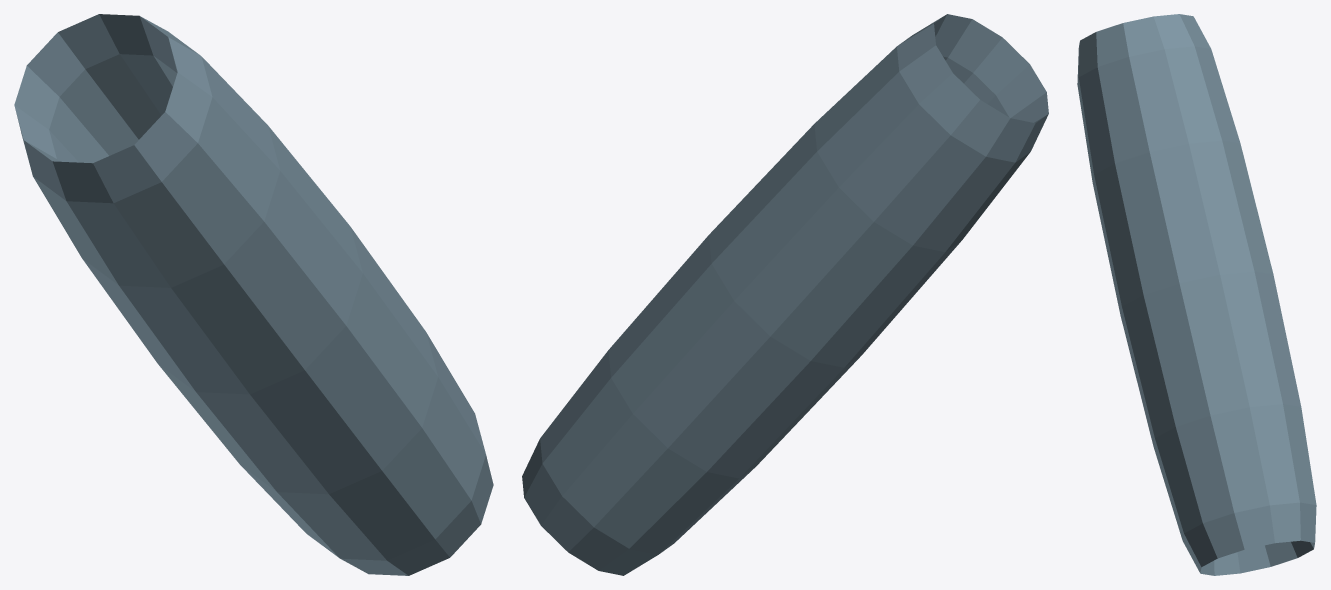
Rendered from astronaut_spawn_group1934812181_lev4.glb.
The picture shows the model from 3 angles, left to right: view 1: azimuth 30°, elevation 25°; view 2: azimuth 150°, elevation 25°; view 3: azimuth 270°, elevation 25°; orthographic projection. The views are drawn at different scales.
Visible parts, largest first — view 1: astronaut_spawn_group1934812181_lev4; view 2: astronaut_spawn_group1934812181_lev4; view 3: astronaut_spawn_group1934812181_lev4.
Part boxes in pixels (box(x1,y1,x2,y2)): astronaut_spawn_group1934812181_lev4: box(14, 14, 493, 575); astronaut_spawn_group1934812181_lev4: box(522, 14, 1048, 575); astronaut_spawn_group1934812181_lev4: box(1077, 14, 1316, 575).
Bounding box in the file's own units: 0.1389 × 0.1692 × 0.0798.
